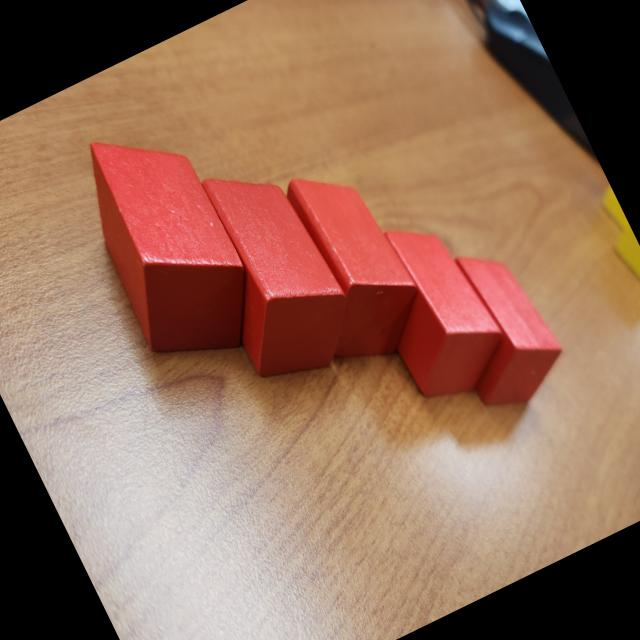red: (57, 106, 276, 384), (170, 146, 370, 396), (254, 149, 440, 381), (347, 203, 520, 414), (420, 232, 578, 421)
yellow: (609, 223, 640, 304), (594, 182, 630, 234)
